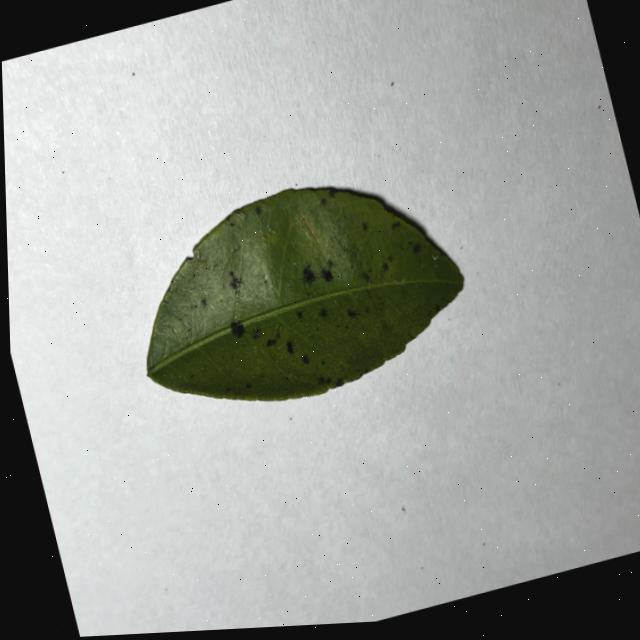sooty_mold: (147, 188, 463, 400)
